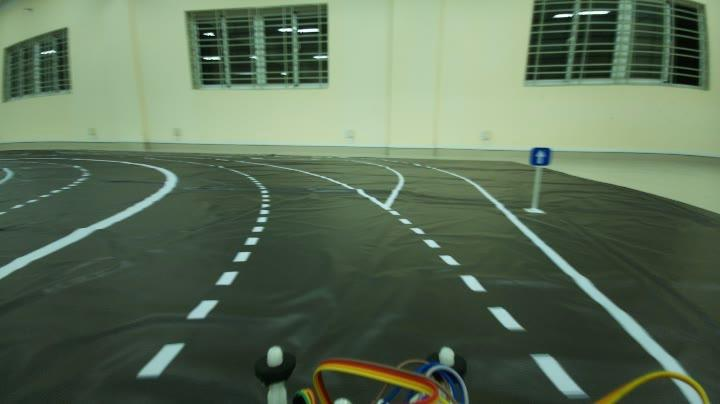onewayroad: (524, 138, 556, 175)
